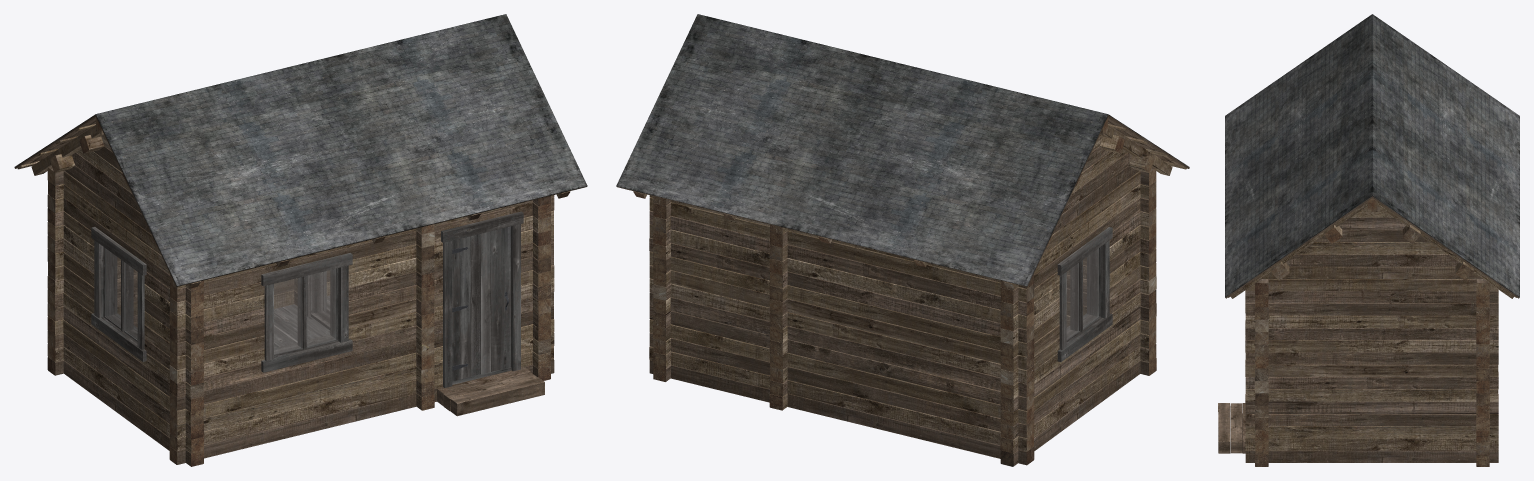
3 renders of one model, left to right at view 1: azimuth 30°, elevation 25°; view 2: azimuth 150°, elevation 25°; view 3: azimuth 270°, elevation 25°, orthographic. The views are drawn at different scales.
Visible parts, largest first — view 1: Base, Door; view 2: Base; view 3: Base.
Part boxes in pixels (bbox=[...]): Base: bbox=[14, 14, 587, 466]; Door: bbox=[452, 226, 510, 381]; Base: bbox=[616, 14, 1189, 466]; Base: bbox=[1218, 14, 1519, 466].
Size of the model in its own units: 514 by 368 by 361.
7 materials, 7 textured.
